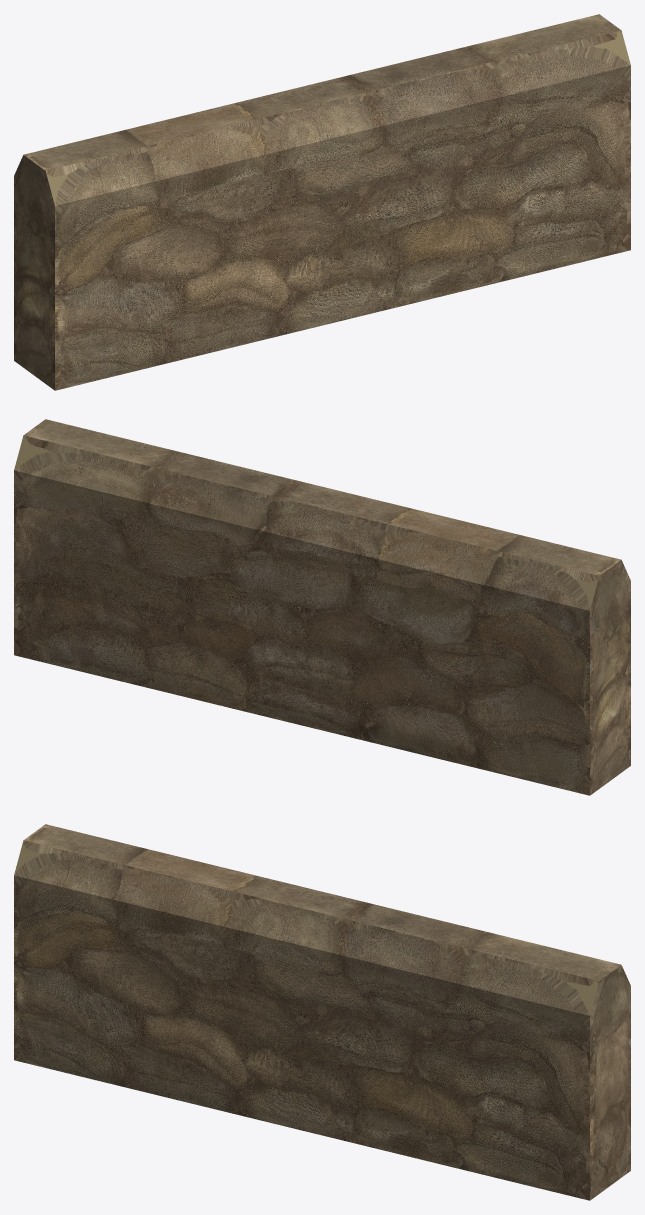
Rendered from sandbag.glb.
3 renders of one model, top to bottom at view 1: azimuth 30°, elevation 25°; view 2: azimuth 150°, elevation 25°; view 3: azimuth 330°, elevation 25°, orthographic.
Parts seen in each view (by area): view 1: SandBag; view 2: SandBag; view 3: SandBag.
Boxes of the visible parts, box(x1,y1,x2,y2) form: SandBag: box(14, 14, 630, 390); SandBag: box(14, 419, 630, 795); SandBag: box(14, 824, 630, 1200).
Bounding box in the file's own units: 3 × 1.06 × 0.37.
Materials: 1 (1 with a texture image).
